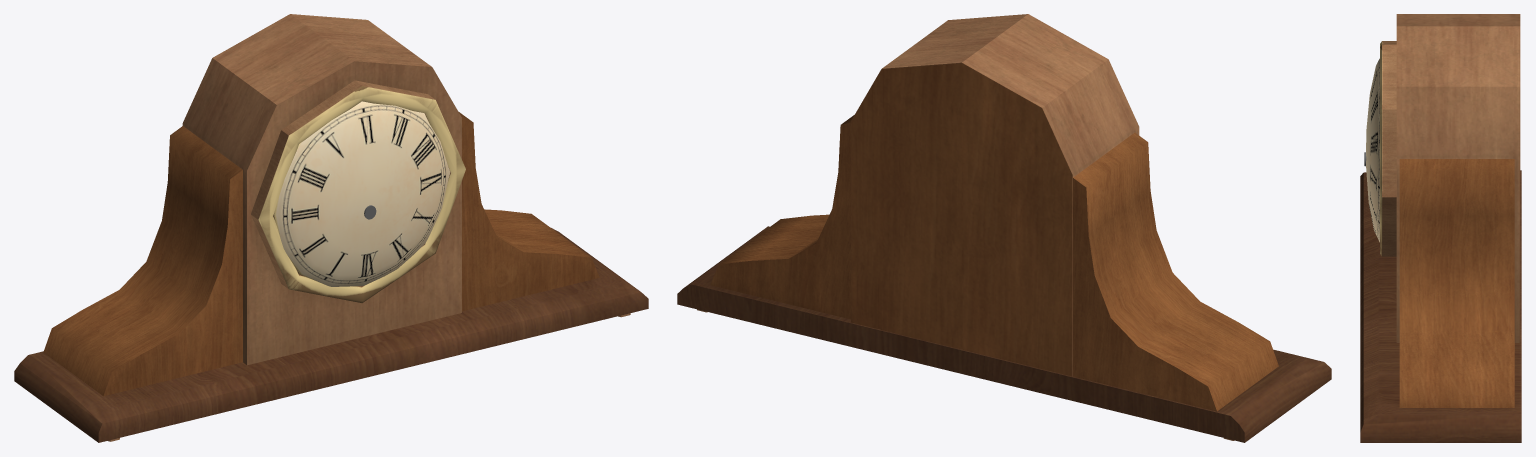
The model's file is clockNew.glb.
3 views of the same model, side by side, from view 1: azimuth 30°, elevation 25°; view 2: azimuth 150°, elevation 25°; view 3: azimuth 270°, elevation 25° (orthographic). The views are drawn at different scales.
Visible parts, largest first — view 1: Clock.003; view 2: Clock.003; view 3: Clock.003.
Boxes of the visible parts, x1,y1,x2,y2 form: Clock.003: (14,14,648,442); Clock.003: (677,14,1331,442); Clock.003: (1360,14,1521,442).
Bounding box in the file's own units: 6.05 × 3.22 × 1.61.
Materials: 2 (1 with a texture image).
